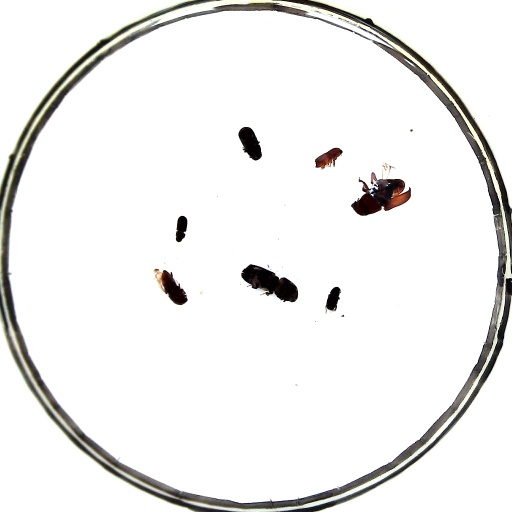acuminatus: (315, 146, 342, 169)
armandi: (238, 125, 261, 159)
boerner: (239, 263, 300, 305)
coleoptera: (323, 286, 341, 311), (174, 216, 188, 241)
leconte: (351, 175, 412, 215)
linnaeus: (157, 268, 186, 304)
